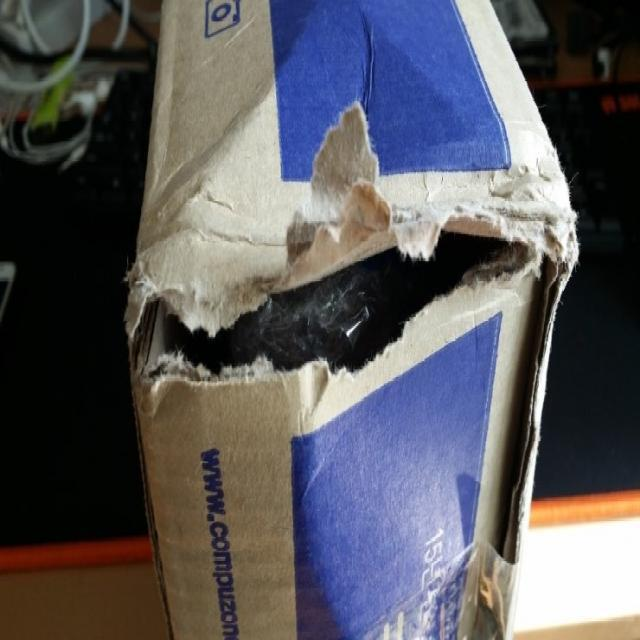damaged: (140, 206, 537, 390)
